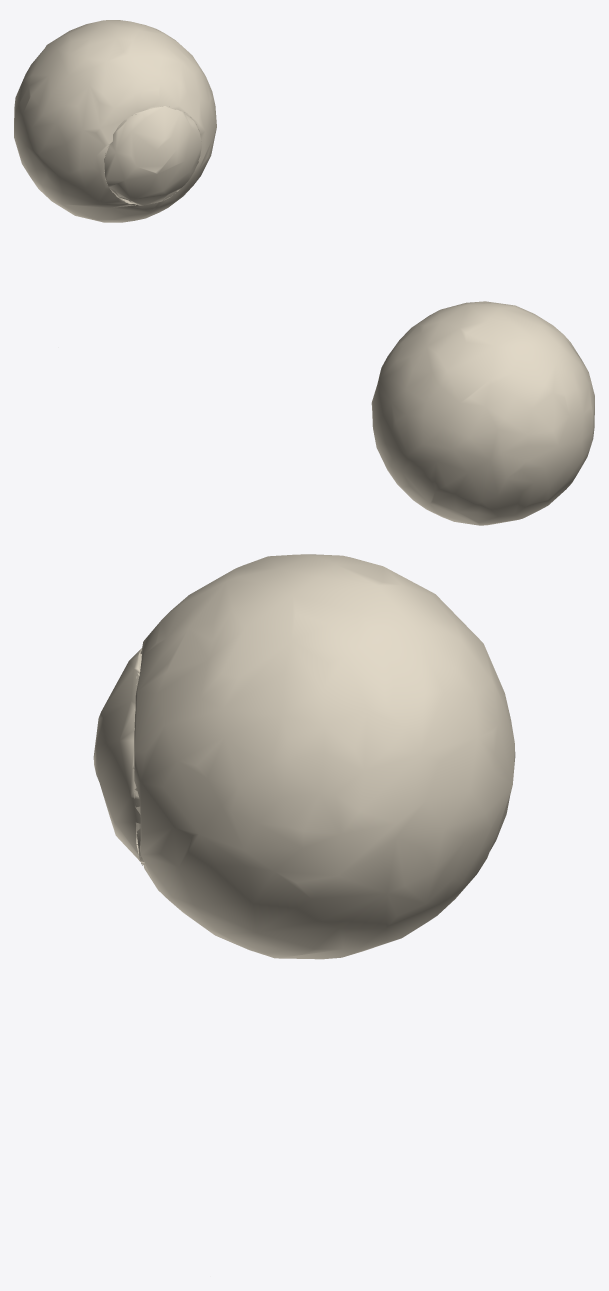
Rendered from anatomy-eye.glb.
The picture shows the model from 3 angles, top to bottom: view 1: azimuth 30°, elevation 25°; view 2: azimuth 150°, elevation 25°; view 3: azimuth 270°, elevation 25°; orthographic projection. The views are drawn at different scales.
Visible parts, largest first — view 1: eye; view 2: eye; view 3: eye.
Part boxes in pixels (bbox=[...]): eye: bbox=[14, 20, 216, 222]; eye: bbox=[371, 301, 594, 525]; eye: bbox=[93, 554, 515, 959].
Bounding box in the file's own units: 0.4052 × 0.1314 × 0.1365.
